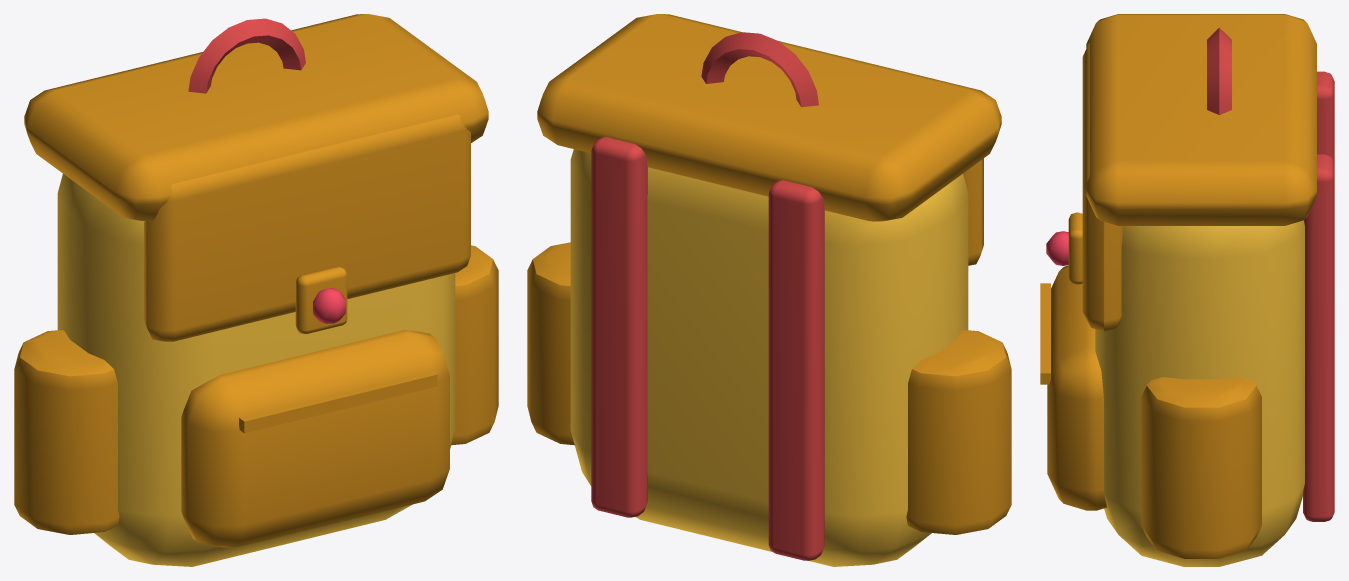
Rendered from GoldBackpack.fbx.
3 views of the same model, side by side, from view 1: azimuth 30°, elevation 25°; view 2: azimuth 150°, elevation 25°; view 3: azimuth 270°, elevation 25° (orthographic). The views are drawn at different scales.
Visible parts, largest first — view 1: GoldBackpack; view 2: GoldBackpack; view 3: GoldBackpack.
Boxes of the visible parts, box(x1,y1,x2,y2) form: GoldBackpack: box(14, 14, 498, 566); GoldBackpack: box(527, 14, 1011, 566); GoldBackpack: box(1040, 14, 1334, 566).
Bounding box in the file's own units: 2.89 × 2.99 × 1.66.
Materials: 1 (1 with a texture image).
